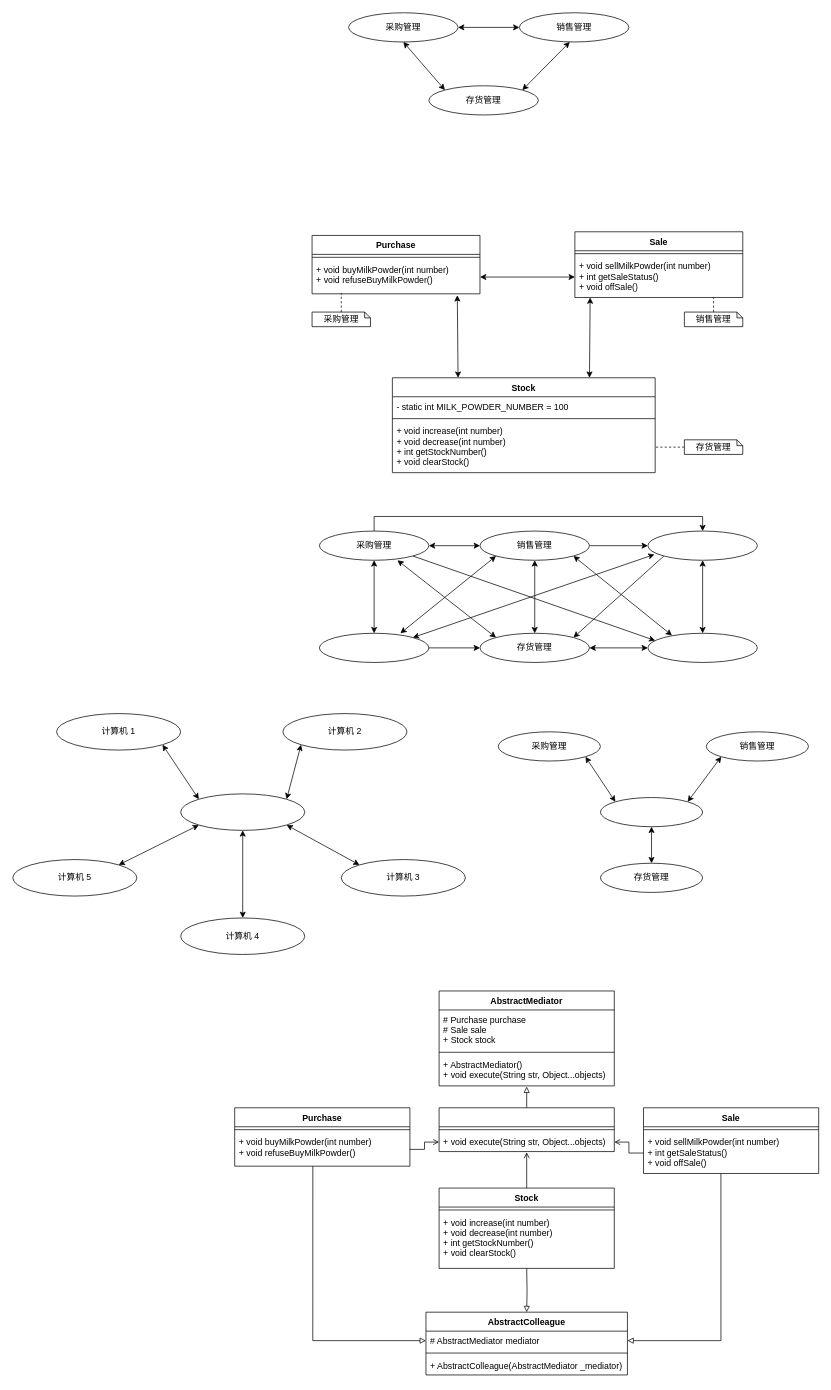
Image size: 831x1390. Some labels were removed from this diagram. Each missing label, with the box of its shape:
Mediator: (438, 1107, 614, 1152)
中介者: (600, 797, 703, 827)
交换机: (180, 793, 305, 830)
供应商管理: (319, 633, 429, 662)
物流管理: (647, 530, 757, 560)
资产管理: (647, 633, 757, 662)
